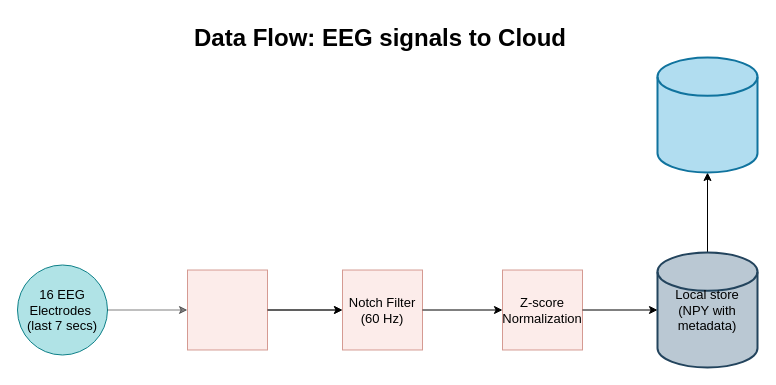
This 776x385 diagram has some shape labels left out. The shapes that lost their labels are listed below. From the top down, each one's centre as x and y in pixels, then its label:
At point (707, 114): "Upload to cloud (Box)".
At point (227, 309): "Bandpass filter (1-50 Hz)".
